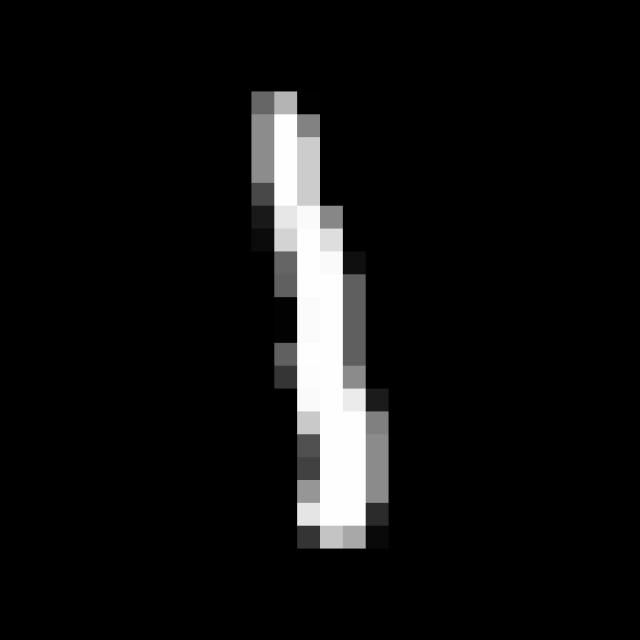one -1-: (224, 78, 411, 568)
